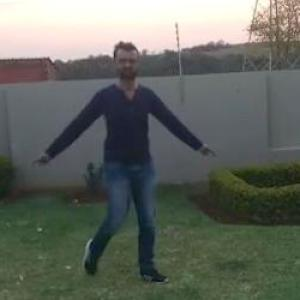land: (57, 50, 190, 246)
